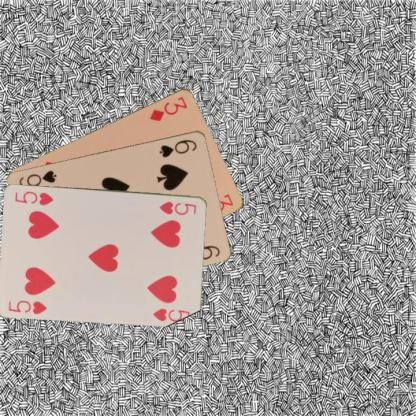3d: (147, 94, 189, 122)
5h: (6, 297, 48, 315), (157, 198, 198, 216)
6s: (157, 136, 198, 159)
